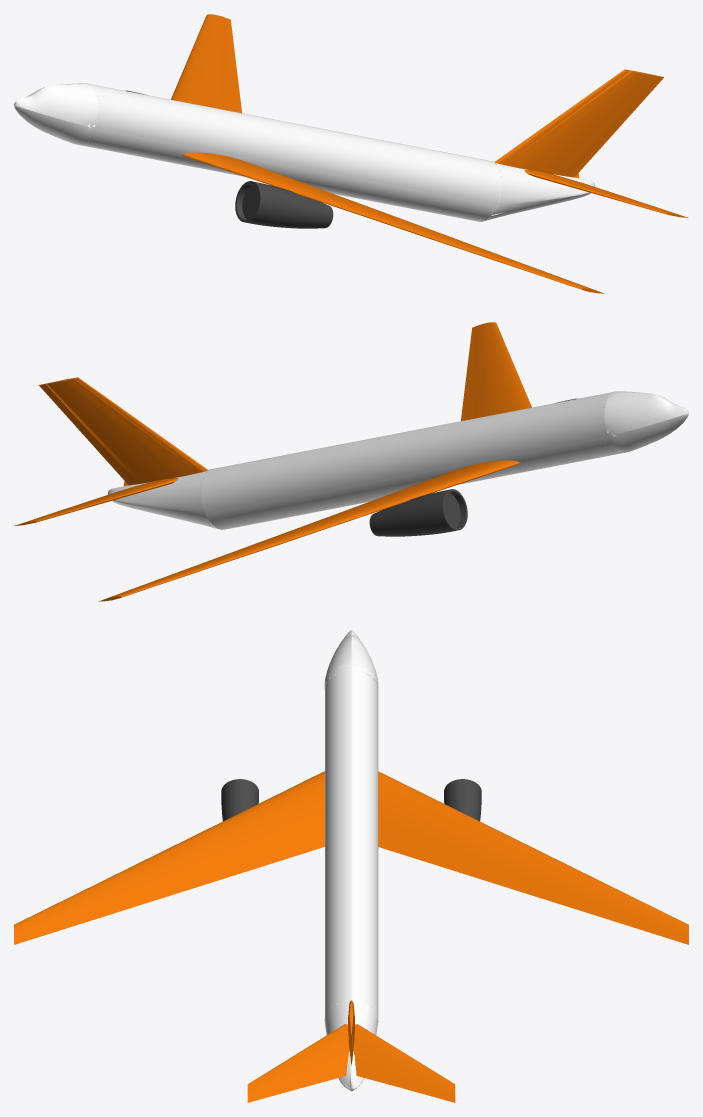
The model's file is 3DPlane2.gltf.
3 views of the same model, one above another, from view 1: azimuth 30°, elevation 25°; view 2: azimuth 150°, elevation 25°; view 3: azimuth 270°, elevation 25° (orthographic). The views are drawn at different scales.
Visible parts, largest first — view 1: color, color-2, color-5, color-8; view 2: color, color-2, color-5; view 3: color-2, color, color-5.
Boxes of the visible parts, x1,y1,x2,y2 form: color: [14, 83, 594, 221]; color-2: [171, 14, 688, 293]; color-5: [125, 90, 333, 228]; color-8: [242, 185, 258, 219]; color: [108, 391, 688, 529]; color-2: [14, 322, 531, 601]; color-5: [369, 398, 577, 536]; color-2: [14, 771, 688, 1102]; color: [324, 630, 378, 1091]; color-5: [221, 779, 481, 821].
Bounding box in the file's own units: 7.37 × 2.61 × 7.35.
